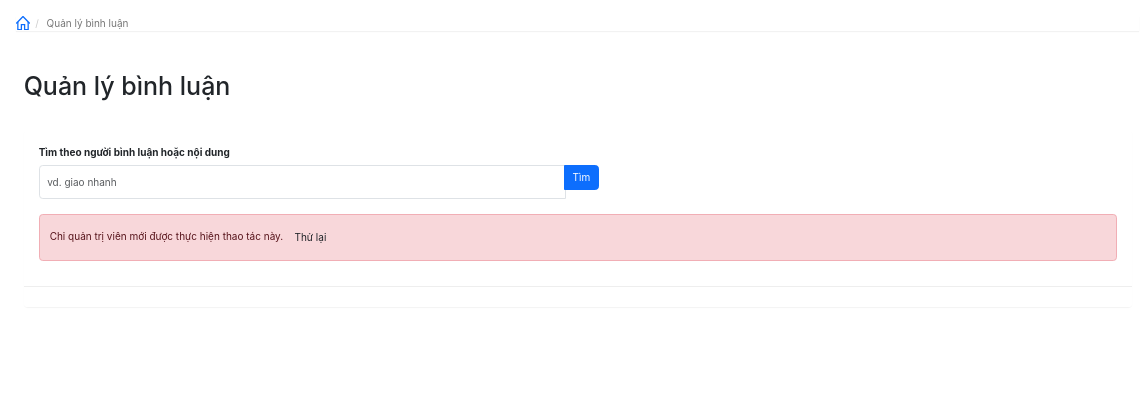
API lỗi (vd. 403) -> hiện lỗi và thử lại được
Expected: the message shows "Chỉ quản trị viên", [50,230,283,242]
Click the button "Thử lại" at (310, 237), box [286,225,335,250]
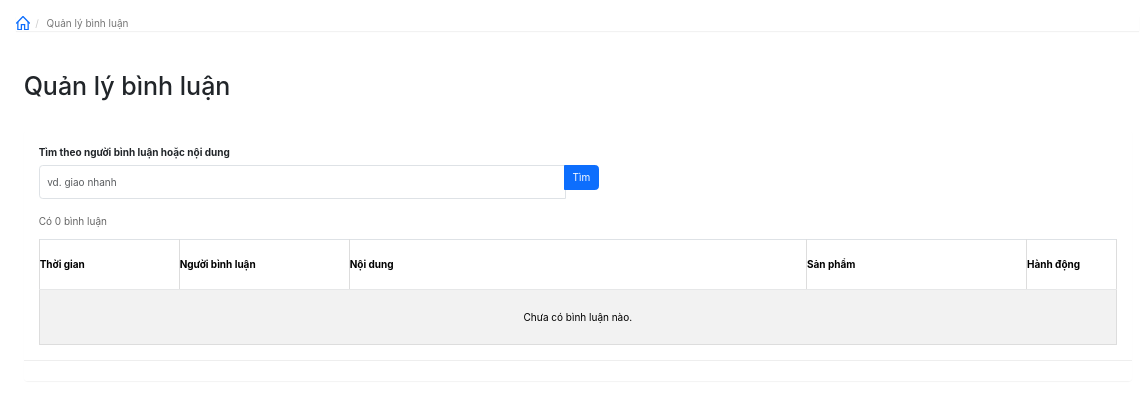
Result: the text "Chưa có bình luận nào." is shown at [39,290,1116,345]
